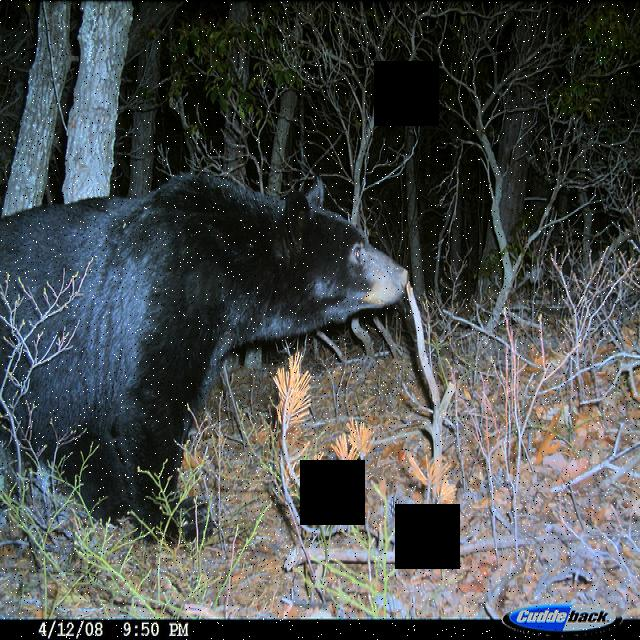Bear: (3, 148, 429, 550)
